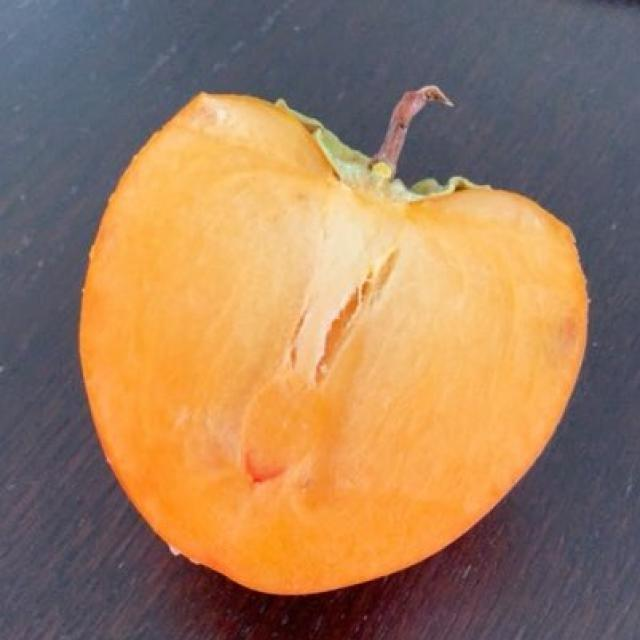kaki: (81, 93, 580, 583)
